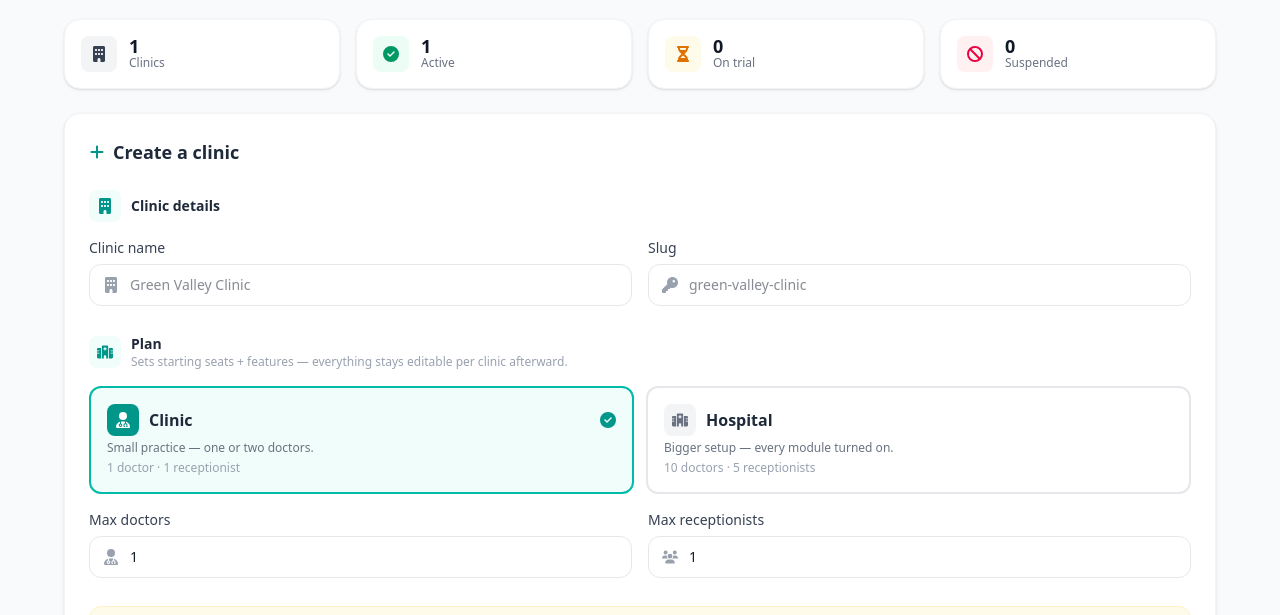
Test: PlatformAdminPage › submits the create-clinic form with the owner payload
Type "New Clinic" into the field labelled "Clinic name".
click(360, 285); type("New Clinic")  # box [89, 264, 632, 306]
(page scrolled)
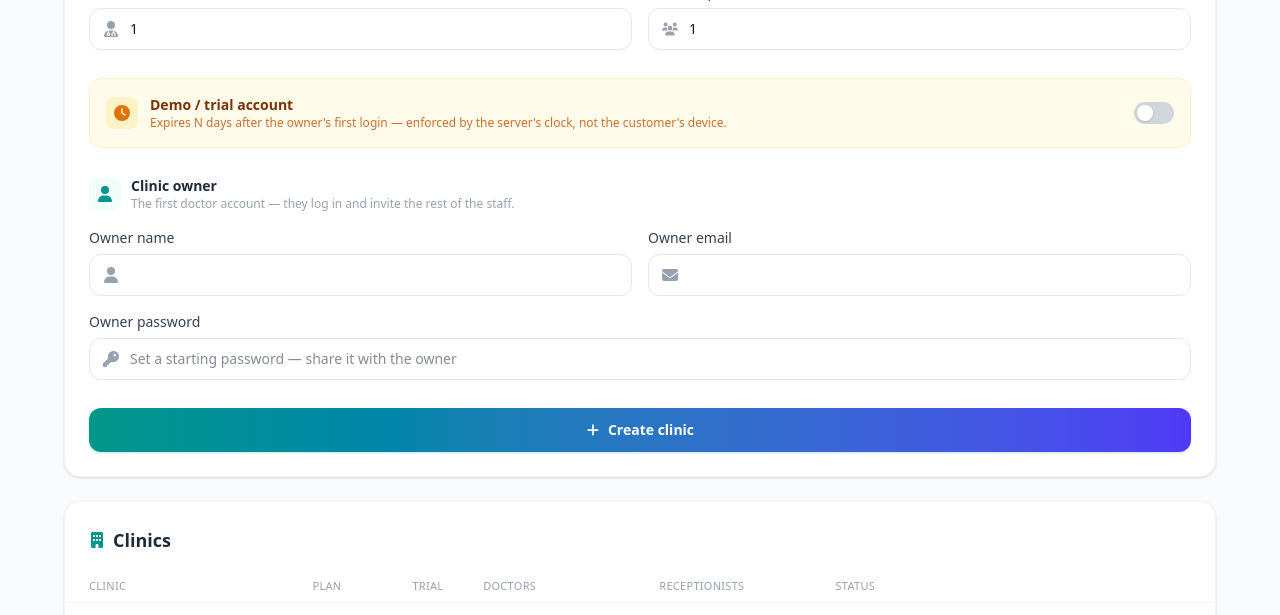
Type "Dr Owner" into the field labelled "Owner name".
click(360, 275); type("Dr Owner")  # box [89, 254, 632, 296]
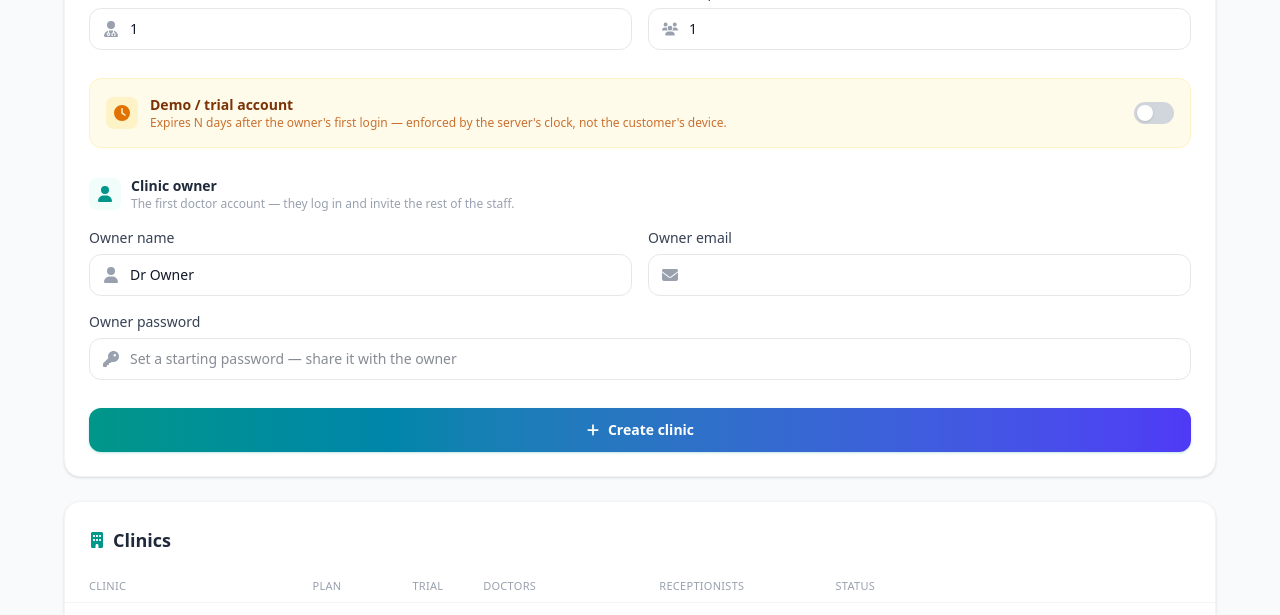
Type "owner@t.pk" into the field labelled "Owner email".
click(920, 275); type("owner@t.pk")  # box [648, 254, 1191, 296]
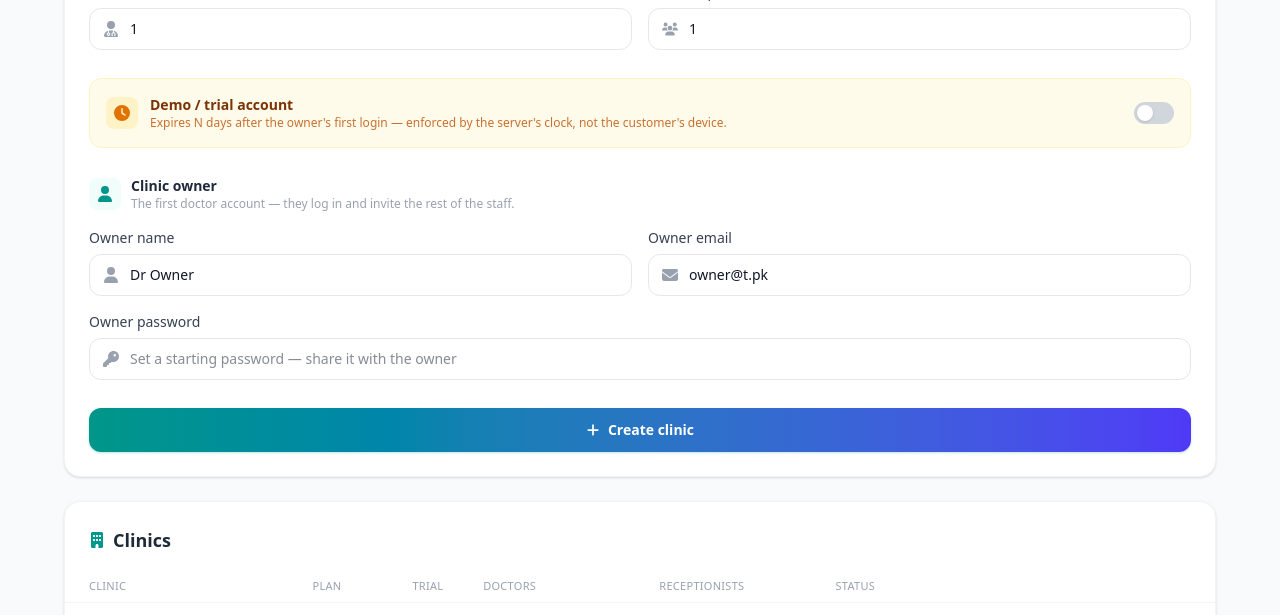
Type "password1" into the field labelled "Owner password".
click(640, 359); type("password1")  # box [89, 338, 1191, 380]
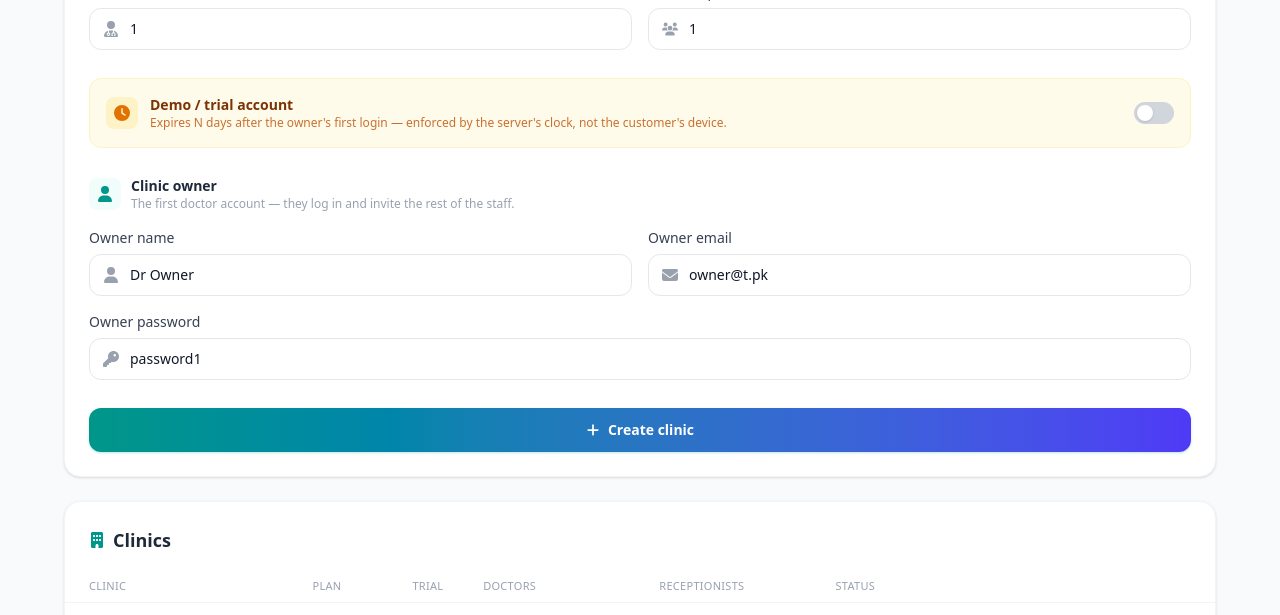
Click the button "Create clinic".
click(640, 430)  # box [89, 408, 1191, 452]
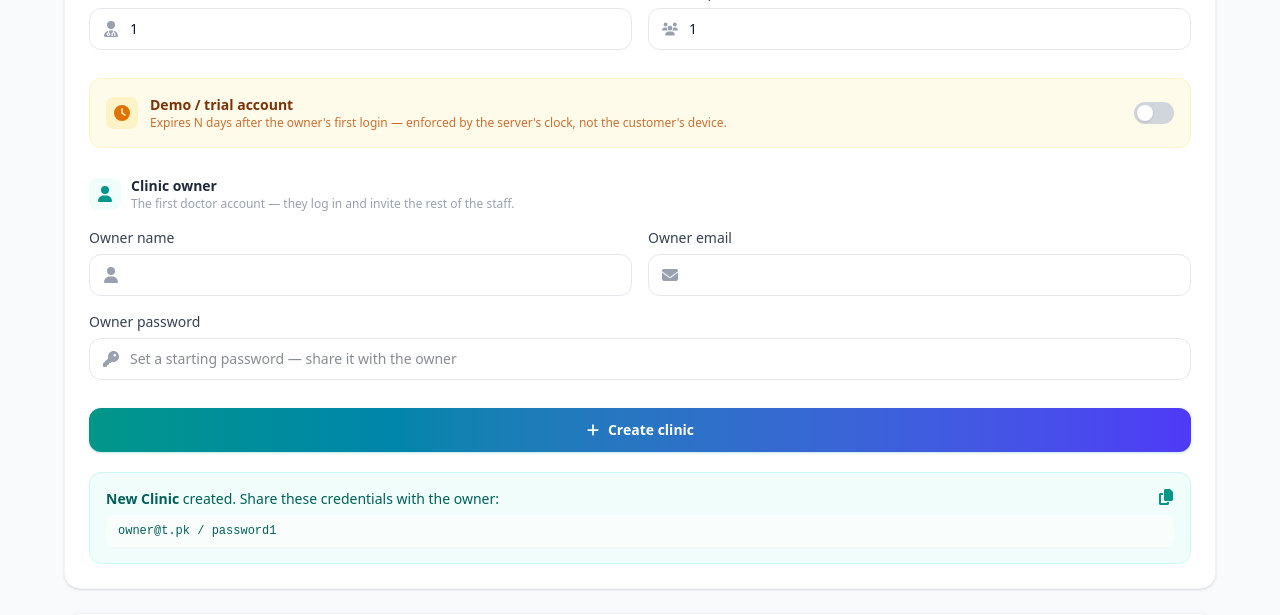
Check: the text "New Clinic created. Share these credentials with the owner:" is shown, box [106, 489, 499, 509]
